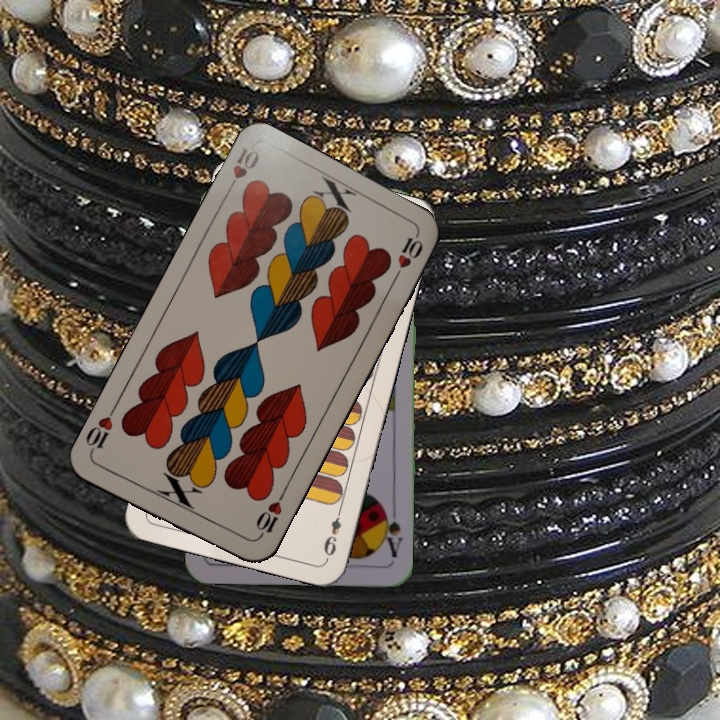E9: (319, 503, 345, 561)
H10: (221, 143, 262, 198), (251, 488, 287, 543)
SA: (378, 502, 405, 560)
